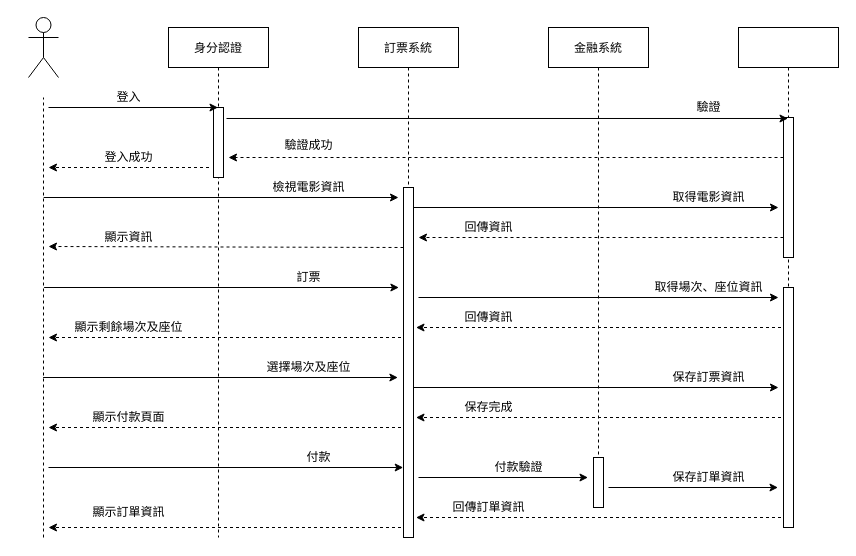
Image size: 856x556. Some labels were removed from this diagram. The centre of each missing label's shape, as x and y in pixels:
Customer: pixel 43 47
資料庫: pixel 788 277
